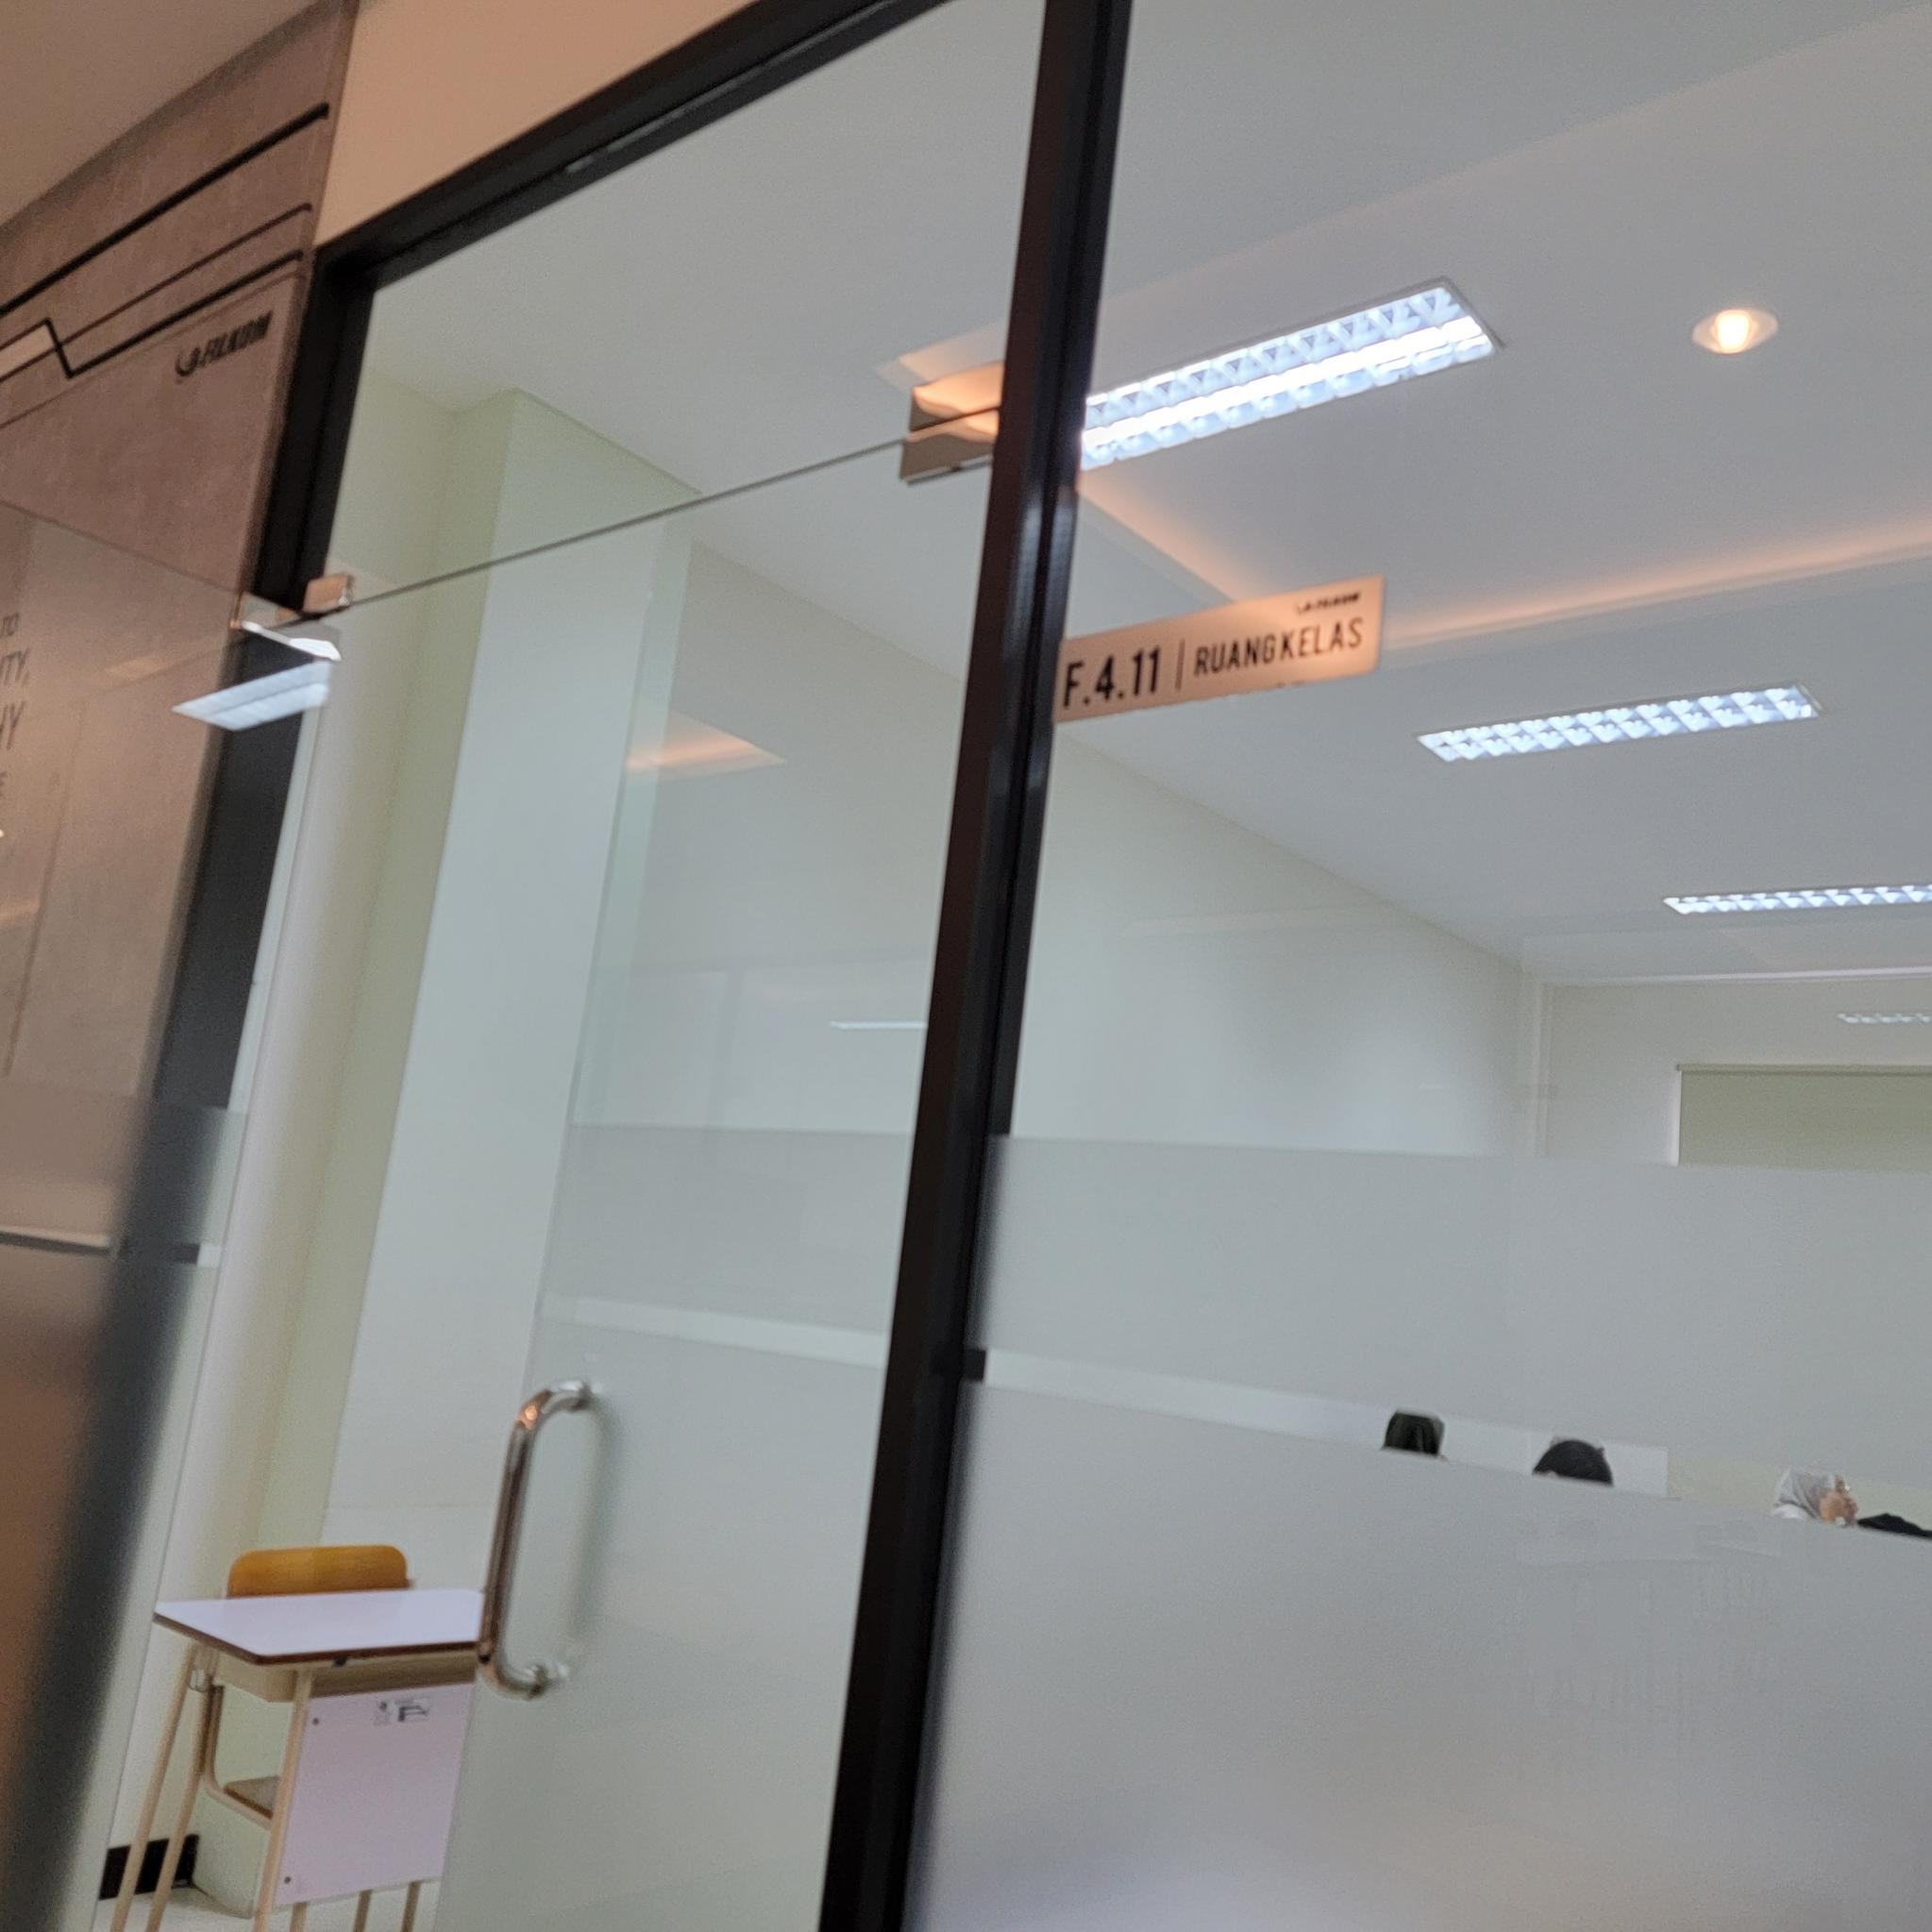plate: (1051, 577, 1387, 725)
